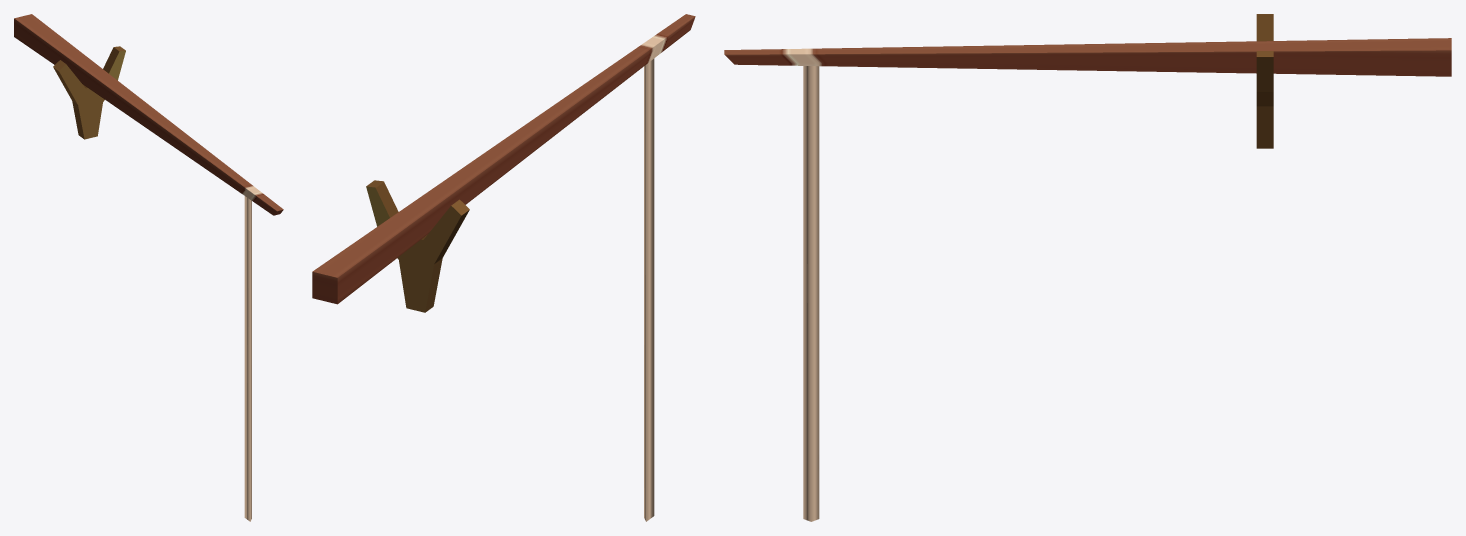
File: Pirate_Ship_We_FishingRod_001.FBX
3 views of the same model, side by side, from view 1: azimuth 30°, elevation 25°; view 2: azimuth 150°, elevation 25°; view 3: azimuth 270°, elevation 25° (orthographic). The views are drawn at different scales.
Visible parts, largest first — view 1: Pirate_Ship_We_FishingRod_001; view 2: Pirate_Ship_We_FishingRod_001; view 3: Pirate_Ship_We_FishingRod_001.
Boxes of the visible parts, bbox=[...] form: Pirate_Ship_We_FishingRod_001: bbox=[14, 14, 283, 521]; Pirate_Ship_We_FishingRod_001: bbox=[312, 14, 695, 521]; Pirate_Ship_We_FishingRod_001: bbox=[724, 14, 1451, 521].
Bounding box in the file's own units: 1.03 × 5.06 × 6.82.
